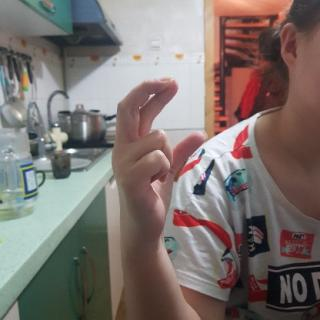DHELL: (106, 69, 218, 265)
